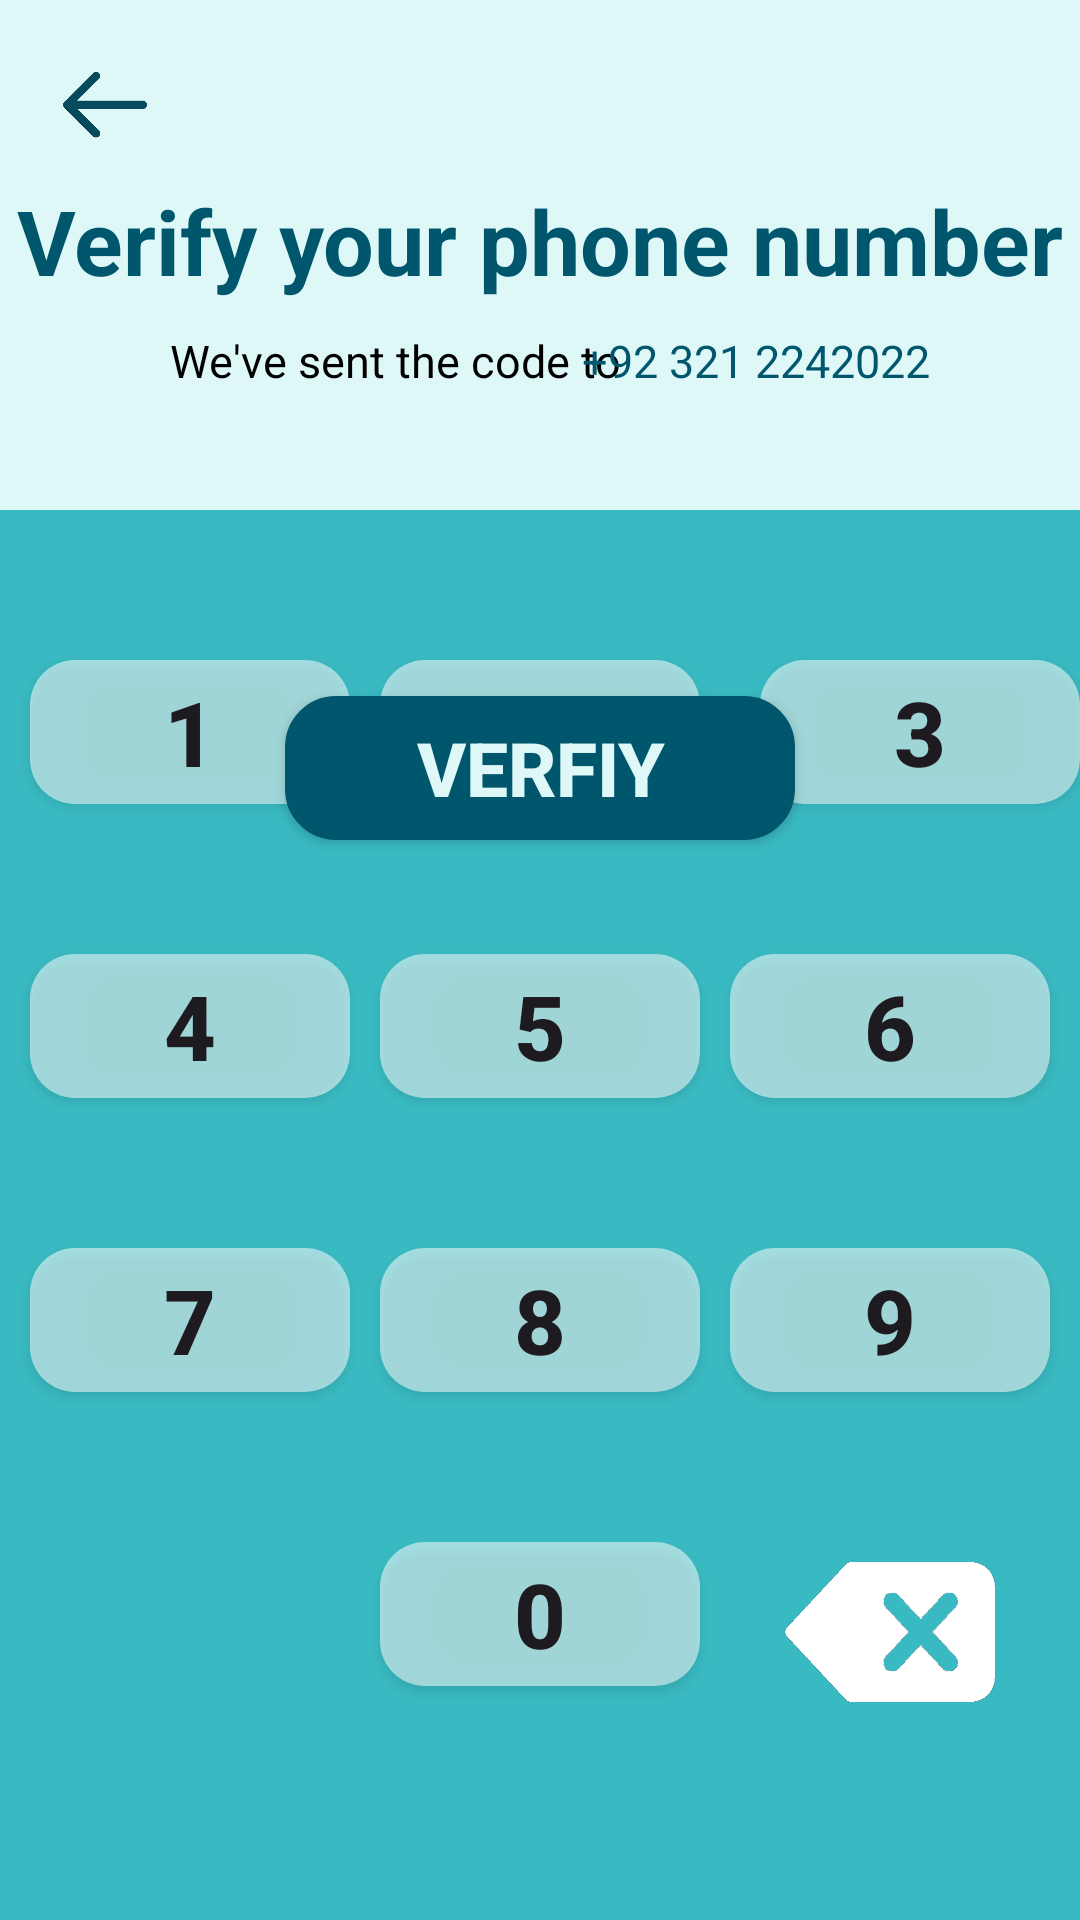

Icons on this 1080w x 1920h Android screen, each with the point to tap as [x,y]:
backarrow: [105,105]
delete: [890,1632]
